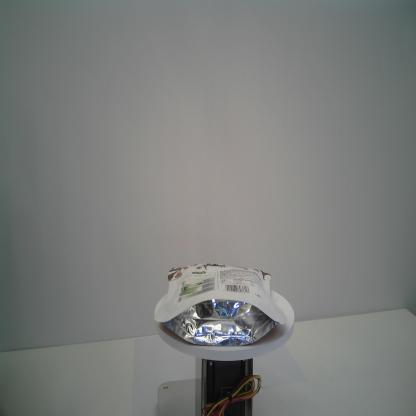Dried Fruit: (153, 262, 288, 347)
